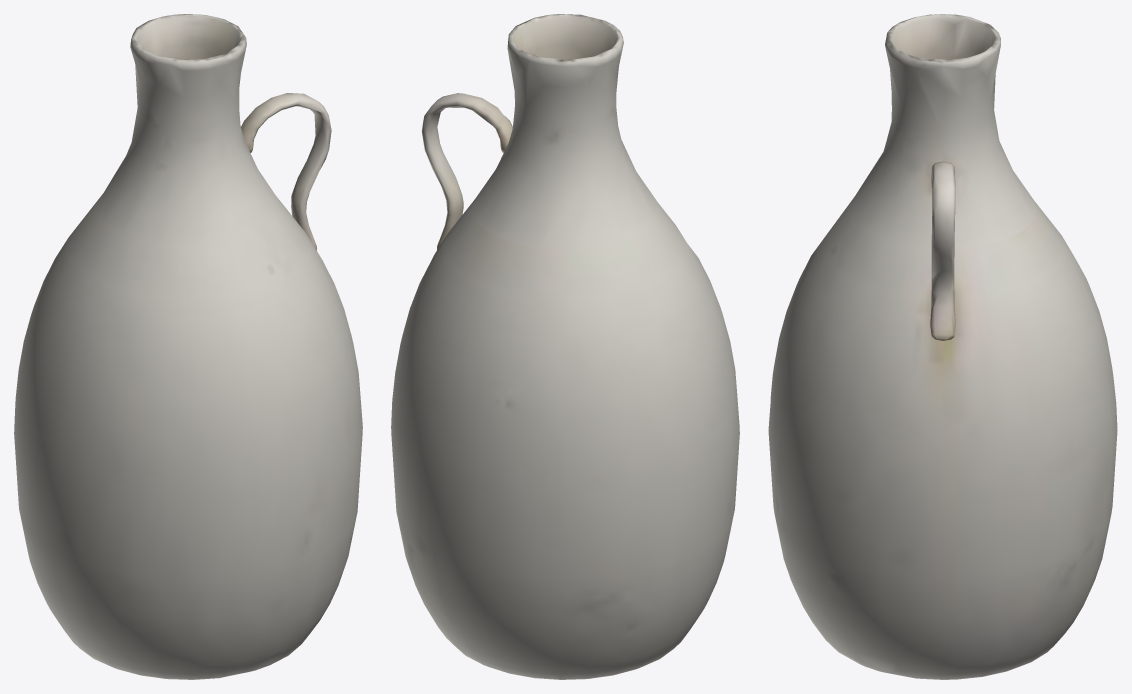
The model's file is ceramic_vase_04.glb.
The picture shows the model from 3 angles, left to right: view 1: azimuth 30°, elevation 25°; view 2: azimuth 150°, elevation 25°; view 3: azimuth 270°, elevation 25°; orthographic projection.
Parts seen in each view (by area): view 1: ceramic_vase_04; view 2: ceramic_vase_04; view 3: ceramic_vase_04.
Boxes of the visible parts, box(x1,y1,x2,y2) form: ceramic_vase_04: box(14, 14, 362, 679); ceramic_vase_04: box(391, 14, 739, 679); ceramic_vase_04: box(768, 14, 1117, 679).
Size of the model in its own units: 0.1811 by 0.3419 by 0.1811.
1 material, 1 textured.
